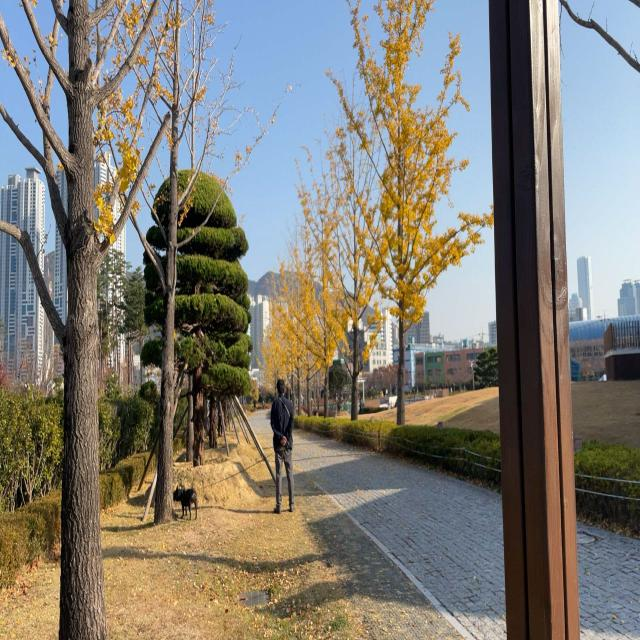Leashed_Dog: (172, 446, 282, 522)
